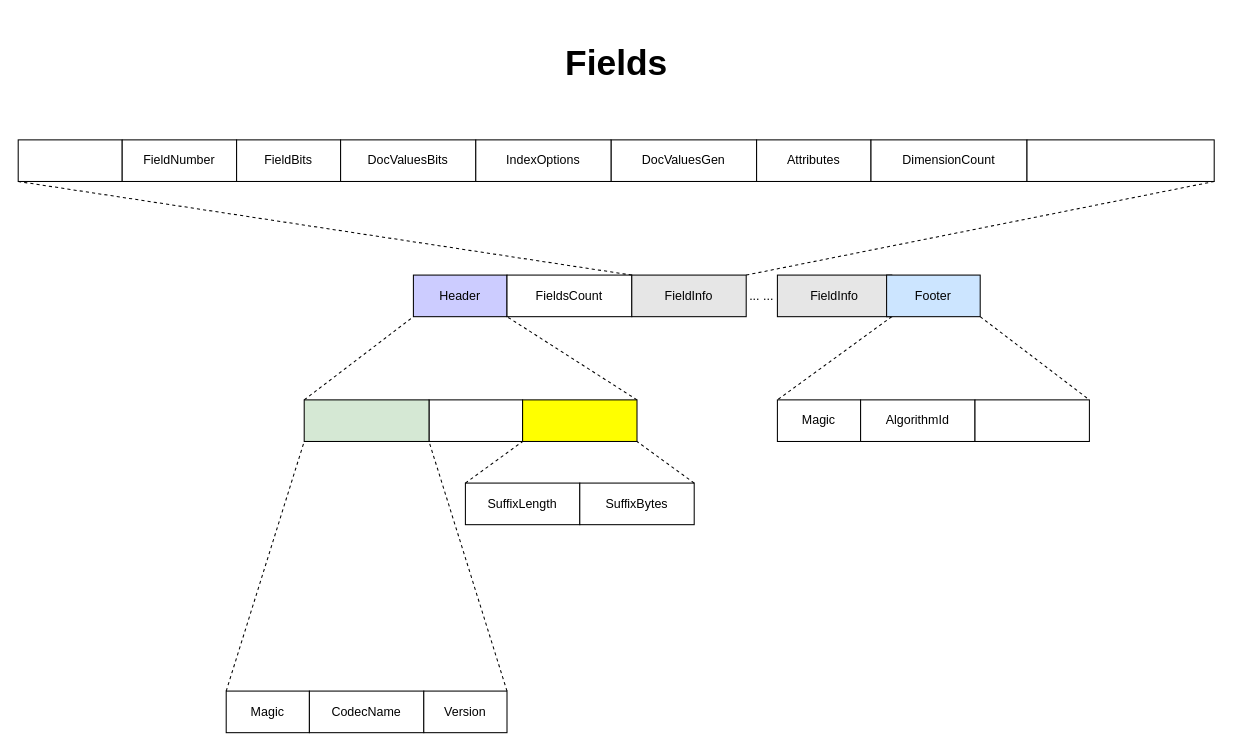
This 1233x751 diagram has some shape labels left out. Each missing label, with the centre of its shape:
"CheckSum" belongs at (x=1031, y=420).
"CodecHeader" belongs at (x=366, y=420).
"DimensionNumBytes" belongs at (x=1120, y=160).
"FieldName" belongs at (x=69, y=160).
"ObjectId" belongs at (x=475, y=420).
"ObjectSuffix" belongs at (x=579, y=420).
